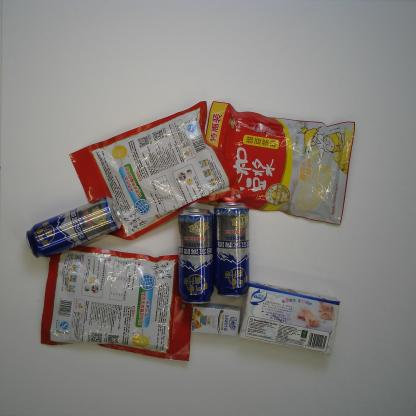Alcohol: (24, 195, 124, 260), (211, 200, 252, 299), (176, 207, 215, 305)
Instant Drink: (67, 100, 242, 242), (191, 100, 355, 225), (39, 242, 197, 364)
Milk: (190, 304, 240, 337)
Tissue: (237, 278, 341, 358)
